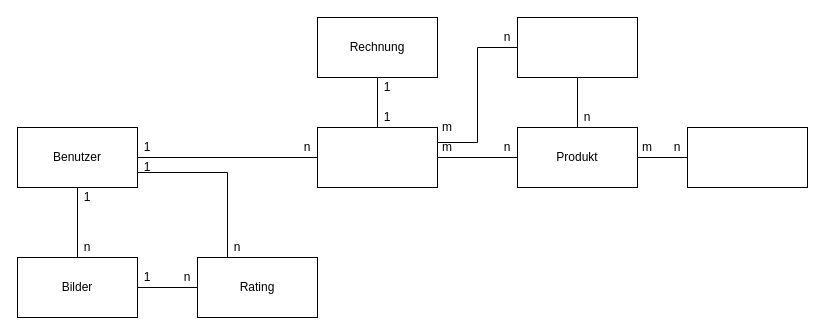
The diagram is 825 pixels wide and 335 high, and some of its shapes have lost their labels. The centre of each missing label's shape, as x and y in pixels:
"Bestellung" goes at point 377,157.
"Menü" goes at point 577,47.
"Zutat" goes at point 747,157.
